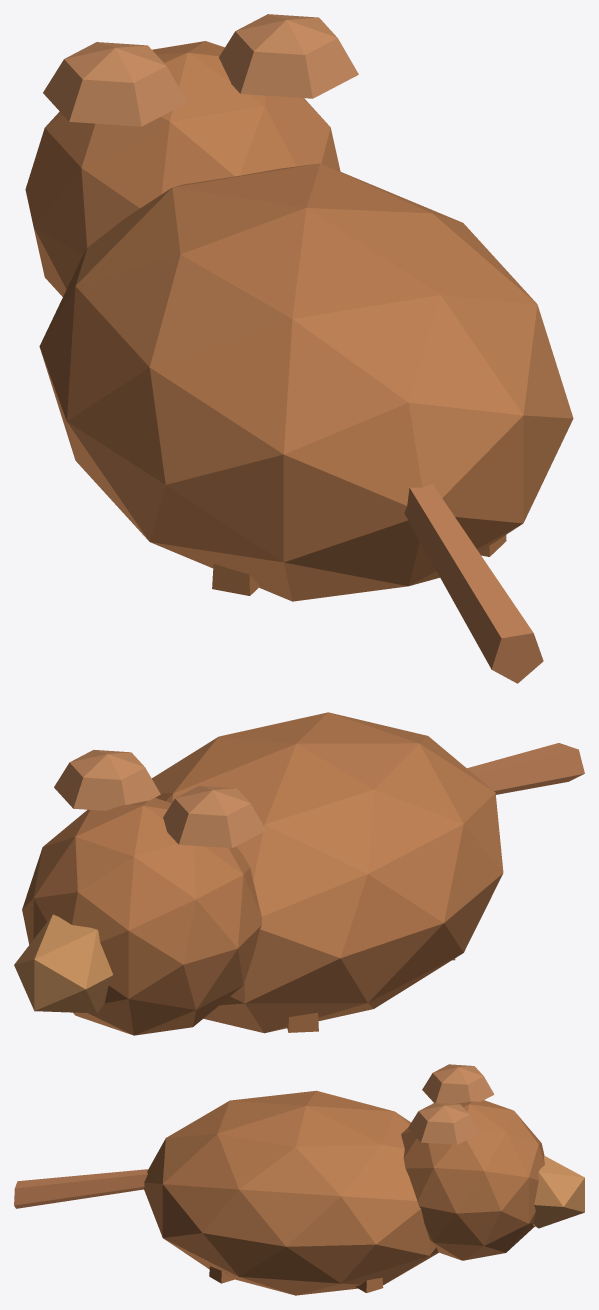
File: rat_fire_v3.glb
The picture shows the model from 3 angles, top to bottom: view 1: azimuth 30°, elevation 25°; view 2: azimuth 150°, elevation 25°; view 3: azimuth 270°, elevation 25°; orthographic projection. The views are drawn at different scales.
Parts seen in each view (by area): view 1: world; view 2: world; view 3: world.
Part boxes in pixels (x1,y1,x2,y2): world: [25, 14, 573, 683]; world: [14, 712, 584, 1035]; world: [14, 1064, 584, 1295].
Size of the model in its own units: 0.4444 by 0.3936 by 1.
